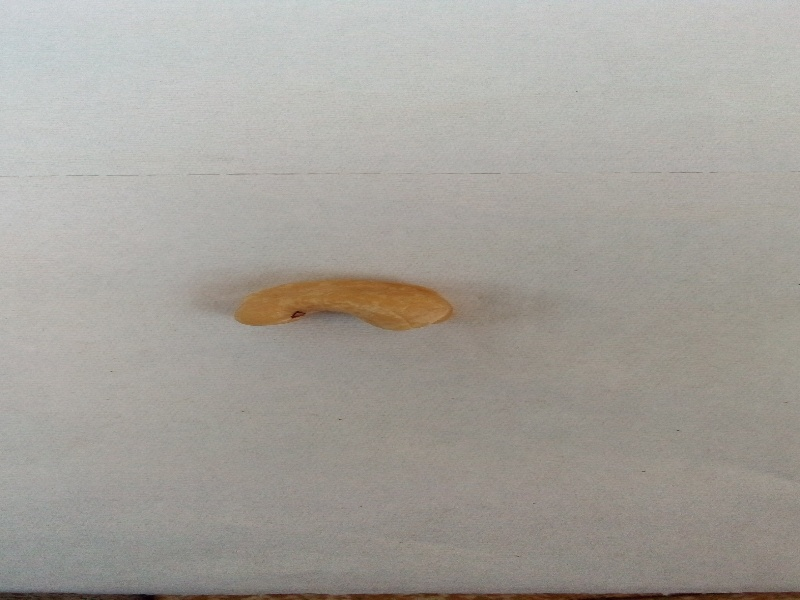cashew: (200, 251, 483, 372)
